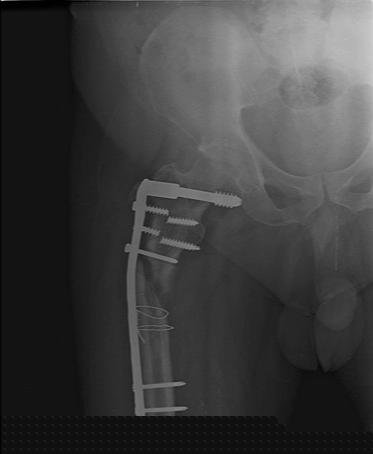fractured: (133, 239, 178, 330)
